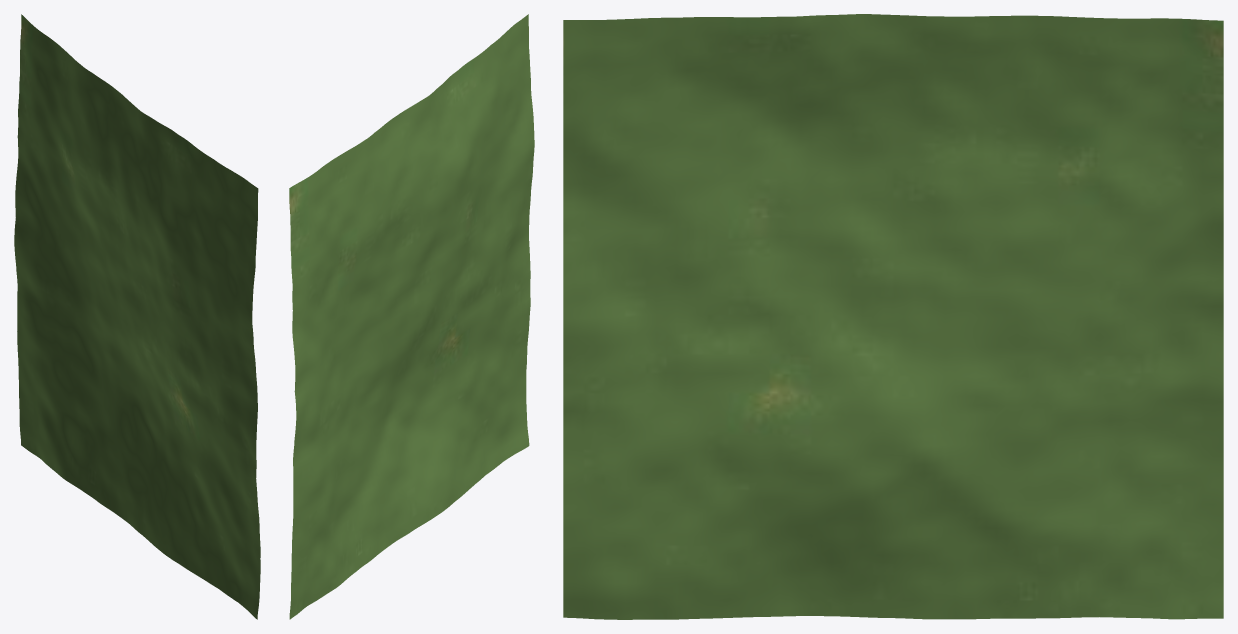
The model's file is Terrain_textured.obj.
3 renders of one model, left to right at view 1: azimuth 30°, elevation 25°; view 2: azimuth 150°, elevation 25°; view 3: azimuth 270°, elevation 25°, orthographic. The views are drawn at different scales.
Visible parts, largest first — view 1: Terrain; view 2: Terrain; view 3: Terrain.
Part boxes in pixels (x1,y1,x2,y2): Terrain: (14, 14, 260, 619); Terrain: (289, 14, 534, 619); Terrain: (563, 14, 1223, 619).
Bounding box in the file's own units: 74.15 × 1200 × 1200.
Materials: 1 (1 with a texture image).
